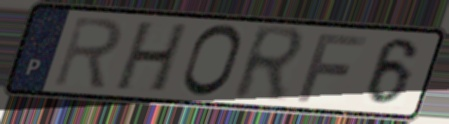6: (360, 37, 422, 109)
F: (293, 30, 371, 105)
H: (111, 20, 193, 96)
O: (178, 22, 245, 100)
R: (228, 23, 310, 106), (50, 14, 124, 91)
